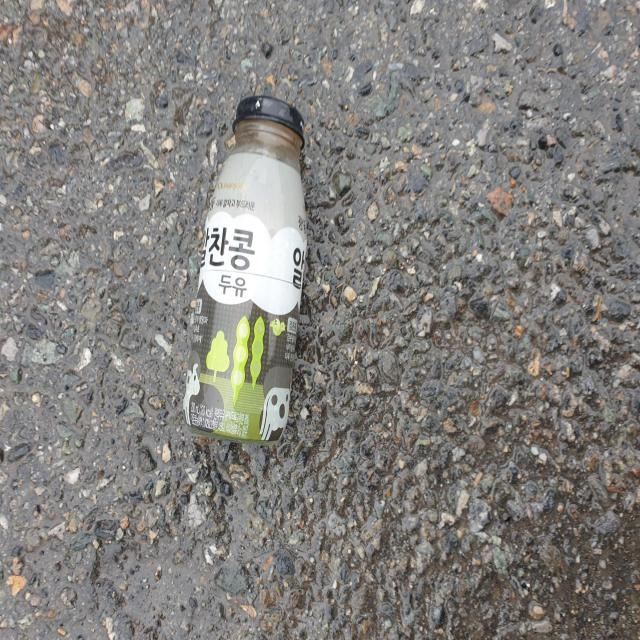glass: (183, 95, 307, 444)
